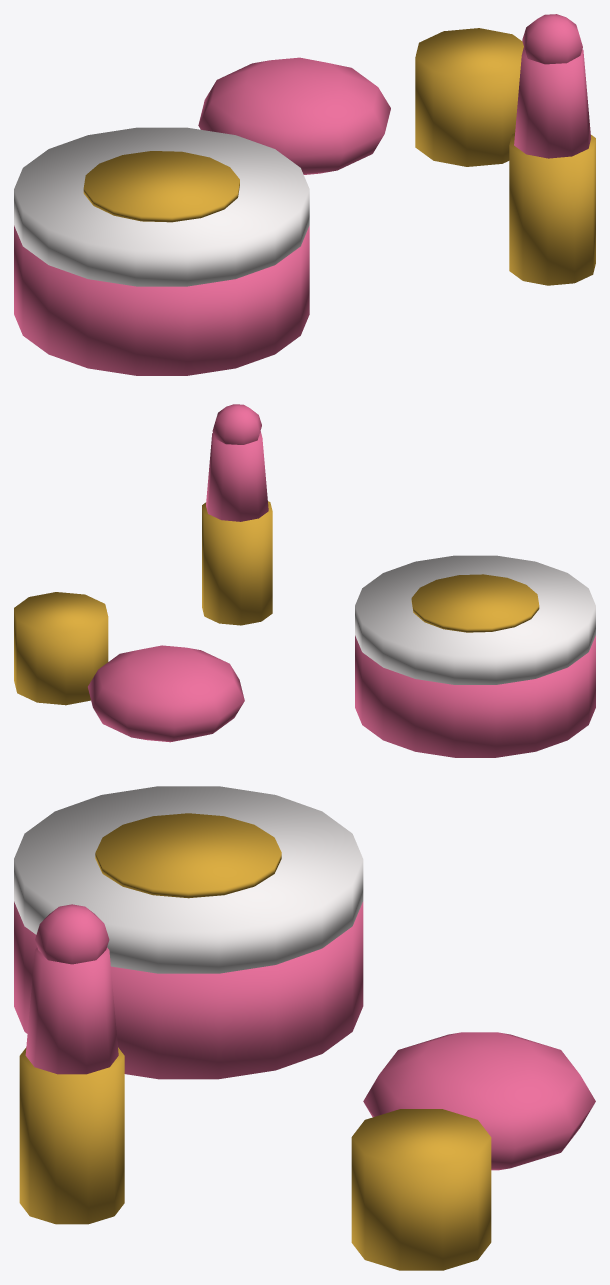
The model's file is resource_cosmetics.fbx.
3 renders of one model, top to bottom at view 1: azimuth 30°, elevation 25°; view 2: azimuth 150°, elevation 25°; view 3: azimuth 270°, elevation 25°, orthographic. The views are drawn at different scales.
Parts seen in each view (by area): view 1: resource_cosmetics_cpink_00, resource_cosmetics_cgold_02, resource_cosmetics_cwhite_01; view 2: resource_cosmetics_cpink_00, resource_cosmetics_cgold_02, resource_cosmetics_cwhite_01; view 3: resource_cosmetics_cpink_00, resource_cosmetics_cgold_02, resource_cosmetics_cwhite_01.
Boxes of the visible parts, x1,y1,x2,y2 form: resource_cosmetics_cpink_00: (14, 14, 590, 375); resource_cosmetics_cgold_02: (83, 28, 595, 285); resource_cosmetics_cwhite_01: (14, 127, 309, 286); resource_cosmetics_cpink_00: (88, 404, 595, 757); resource_cosmetics_cgold_02: (14, 501, 539, 705); resource_cosmetics_cwhite_01: (355, 555, 595, 684); resource_cosmetics_cpink_00: (14, 901, 595, 1170); resource_cosmetics_cgold_02: (19, 813, 491, 1270); resource_cosmetics_cwhite_01: (14, 786, 363, 973).
Bounding box in the file's own units: 68.48 × 28 × 50.
